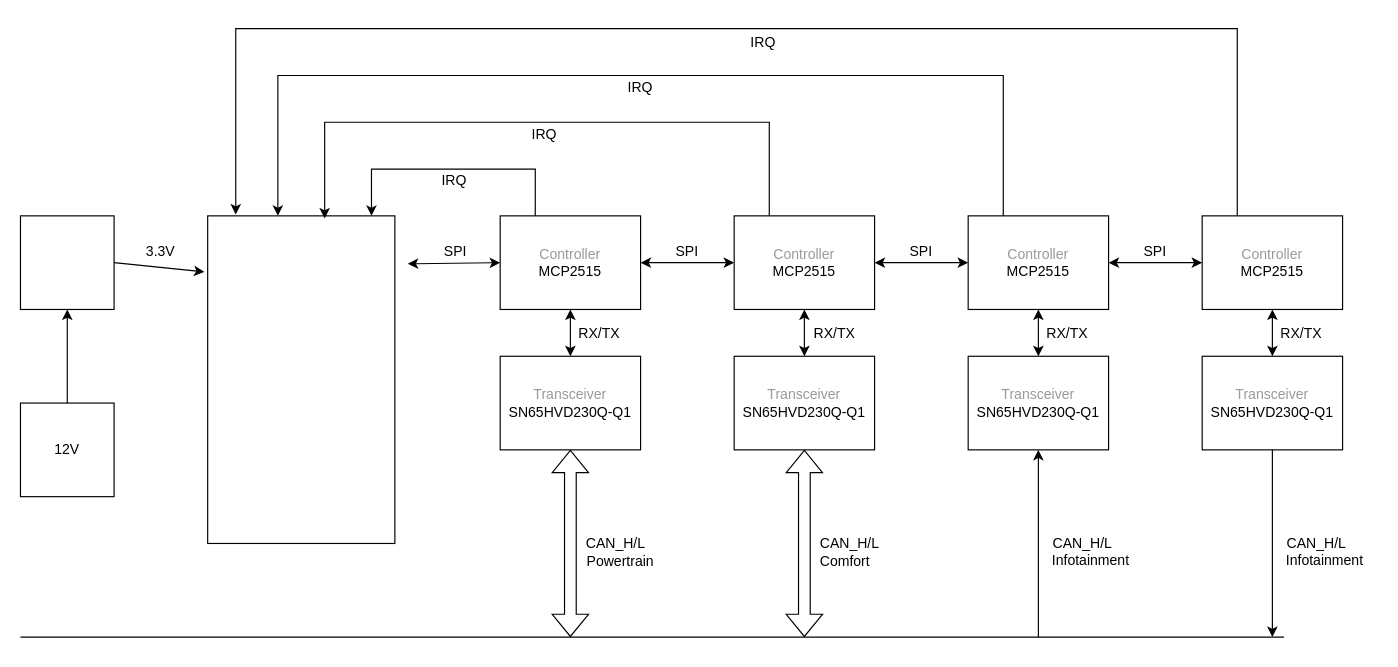
This 1398x667 diagram has some shape labels left out. The centre of each missing label's shape, as x and y in pixels:
"MCU ESP32" belongs at pixel 301 379.
"VReg TLS850C2TE V33" belongs at pixel 66 262.
